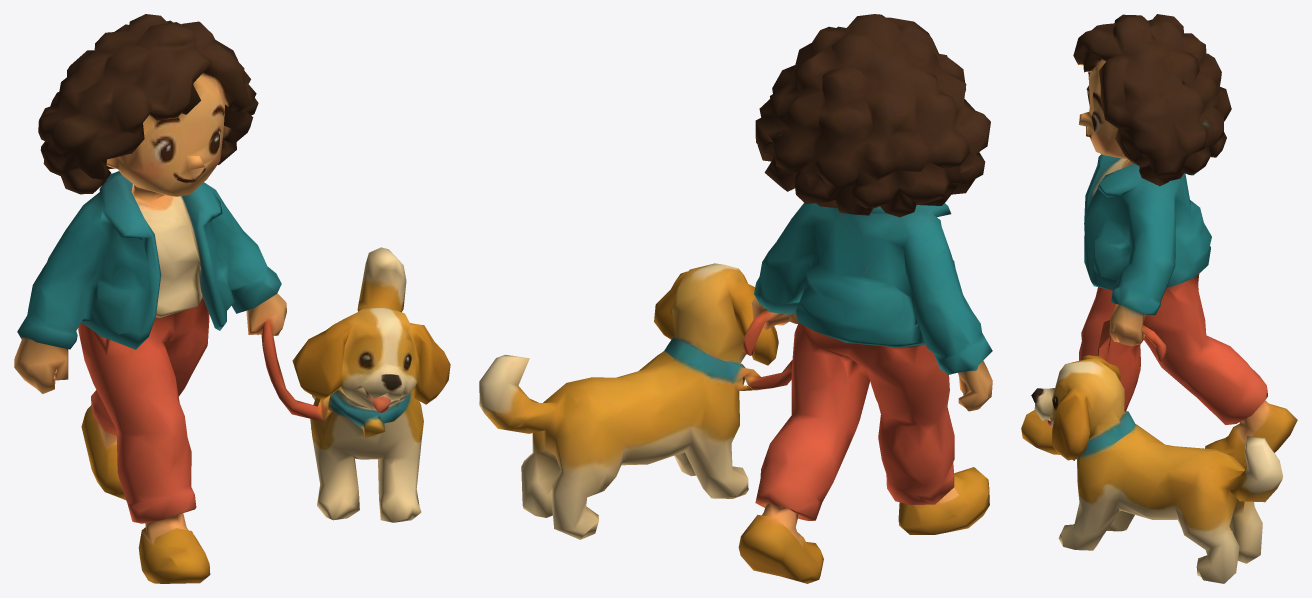
File: city-ped-dog-walker.glb
3 renders of one model, left to right at view 1: azimuth 30°, elevation 25°; view 2: azimuth 150°, elevation 25°; view 3: azimuth 270°, elevation 25°, orthographic. The views are drawn at different scales.
Parts seen in each view (by area): view 1: city-ped-dog-walker; view 2: city-ped-dog-walker; view 3: city-ped-dog-walker.
Part boxes in pixels (left/top/right/bottom): city-ped-dog-walker: left=14, top=14, right=450, bottom=583; city-ped-dog-walker: left=479, top=14, right=992, bottom=583; city-ped-dog-walker: left=1021, top=14, right=1297, bottom=583.
Bounding box in the file's own units: 1.44 × 1.6 × 0.9036.
Materials: 1 (1 with a texture image).
